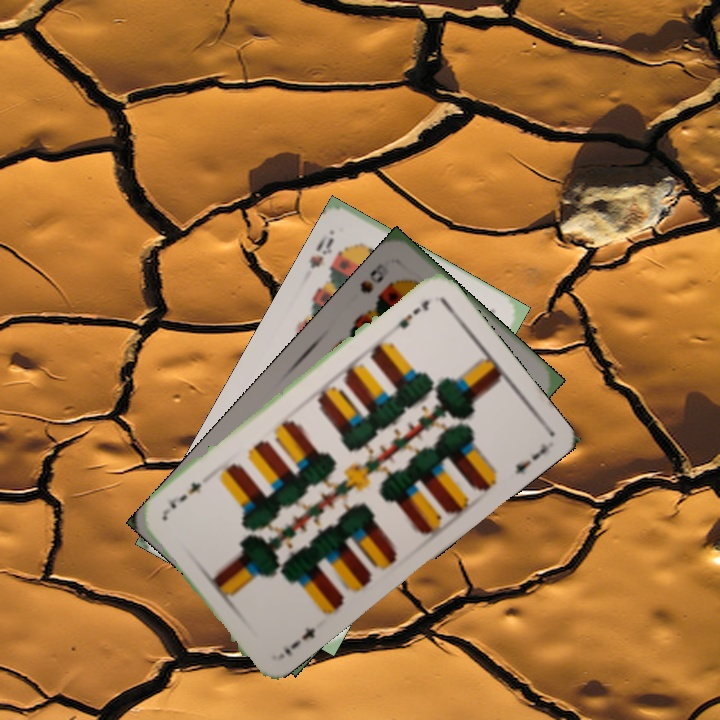E7: (386, 295, 433, 336), (280, 623, 318, 659)
S8: (305, 233, 337, 271), (355, 265, 386, 296)
